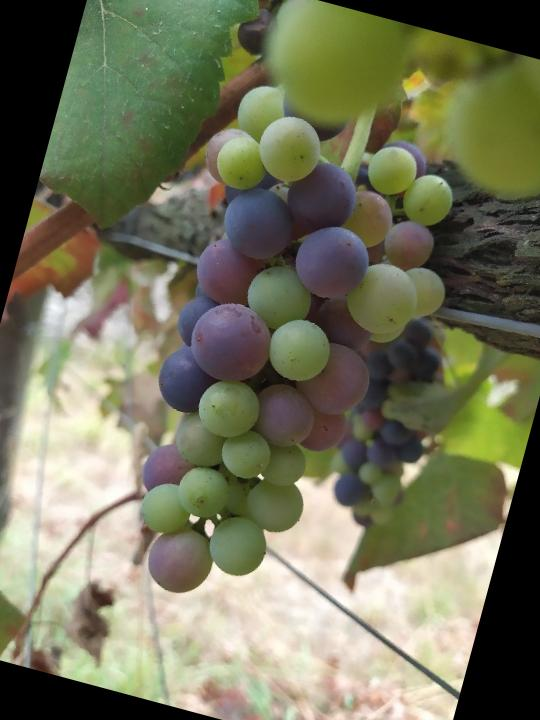grape: (90, 59, 492, 644)
